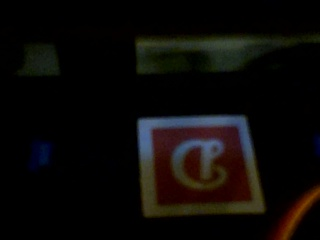D: (149, 122, 255, 207)
